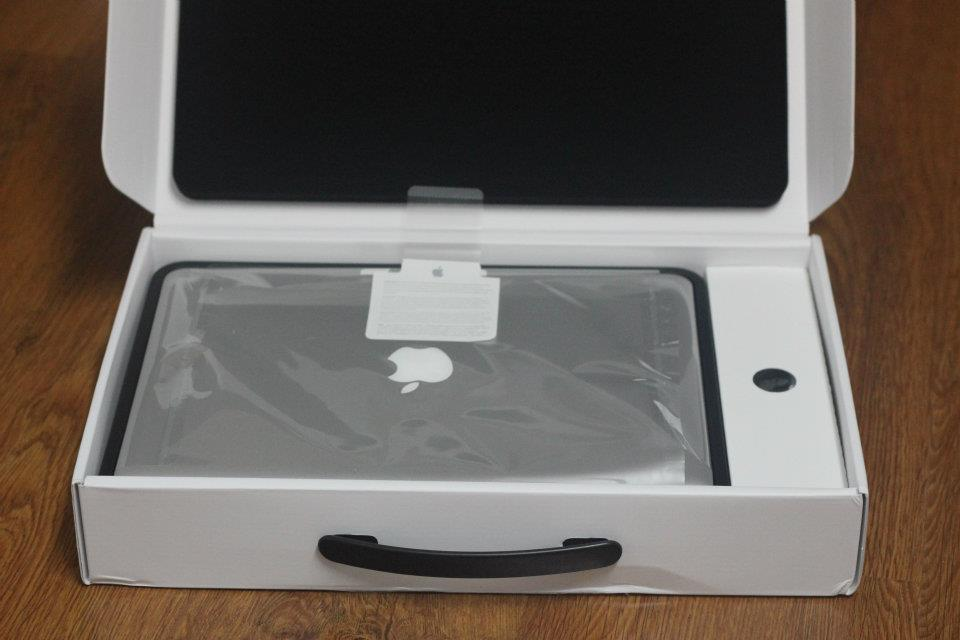Apple: (377, 340, 469, 403)
